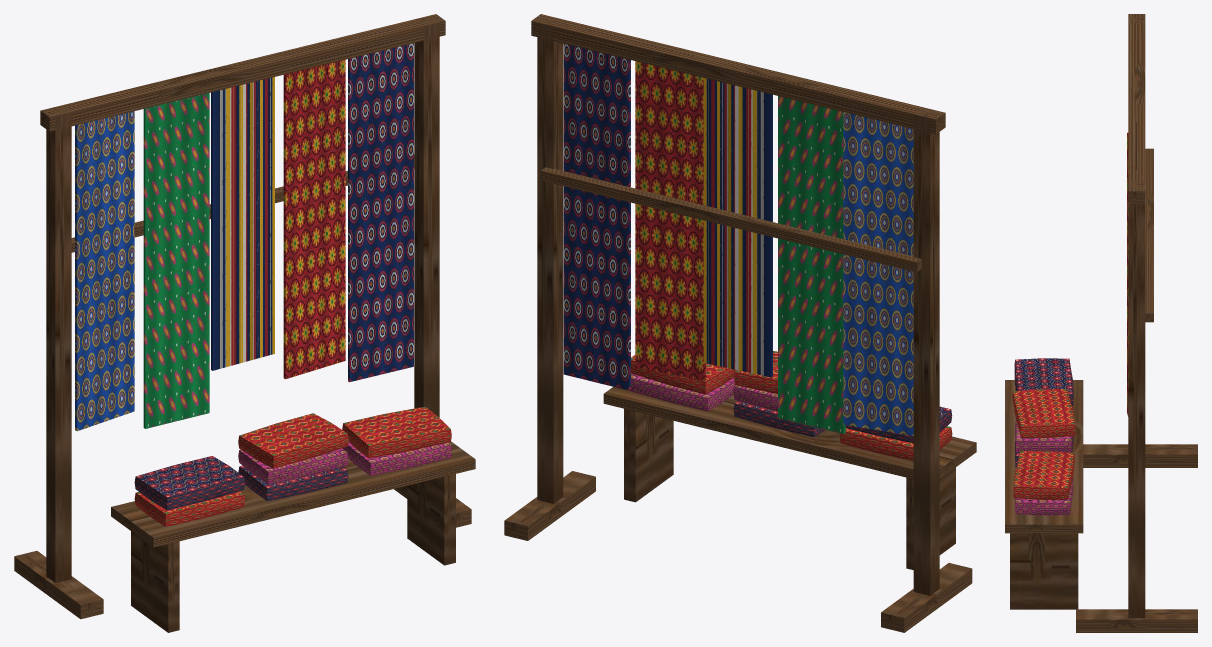
The model's file is mkt_fabric_rack.glb.
The picture shows the model from 3 angles, left to right: view 1: azimuth 30°, elevation 25°; view 2: azimuth 150°, elevation 25°; view 3: azimuth 270°, elevation 25°; orthographic projection. The views are drawn at different scales.
Visible parts, largest first — view 1: mkt_fabric_rack_body; view 2: mkt_fabric_rack_body; view 3: mkt_fabric_rack_body.
Part boxes in pixels (x1,y1,x2,y2): mkt_fabric_rack_body: (14, 14, 475, 632); mkt_fabric_rack_body: (504, 14, 976, 632); mkt_fabric_rack_body: (1005, 14, 1197, 632).
Bounding box in the file's own units: 1.72 × 2 × 0.79.
1 material, 1 textured.
